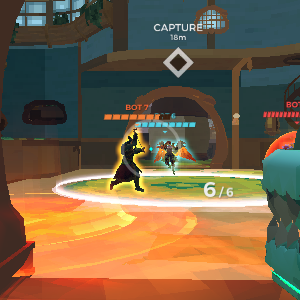model: (108, 127, 145, 193)
